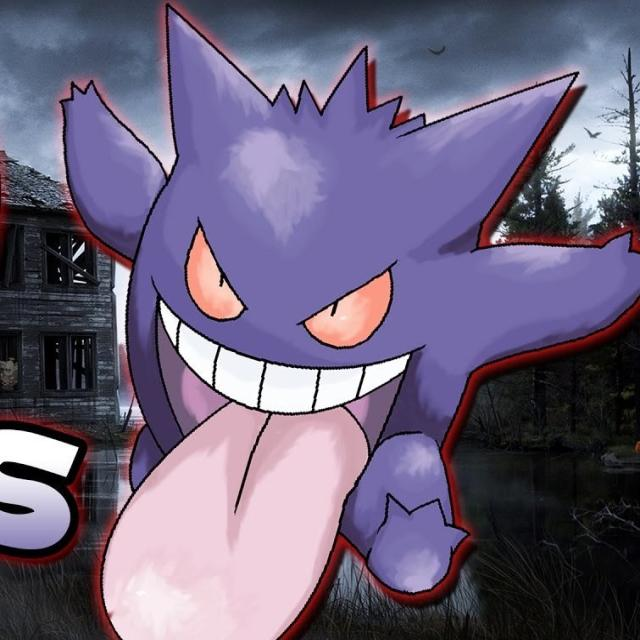Gengar: (104, 54, 512, 578)
